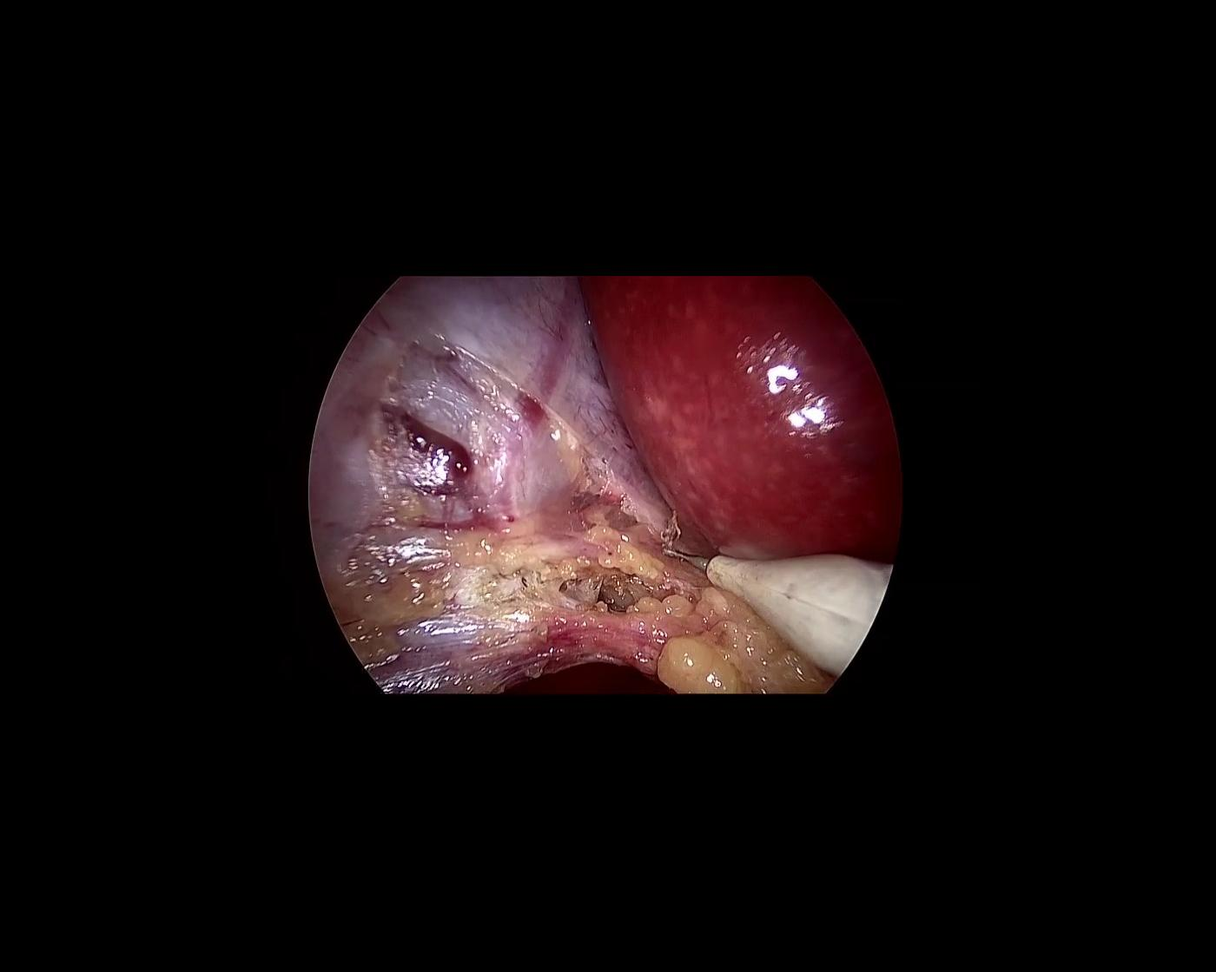Cautery: (644, 521, 891, 683)
Gallbladder: (279, 242, 685, 718)
Liver: (581, 276, 901, 563)
